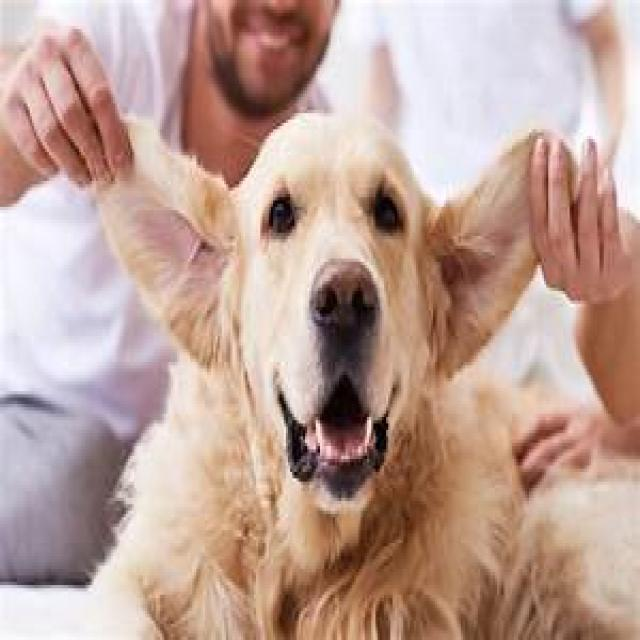dog: (92, 113, 640, 640)
